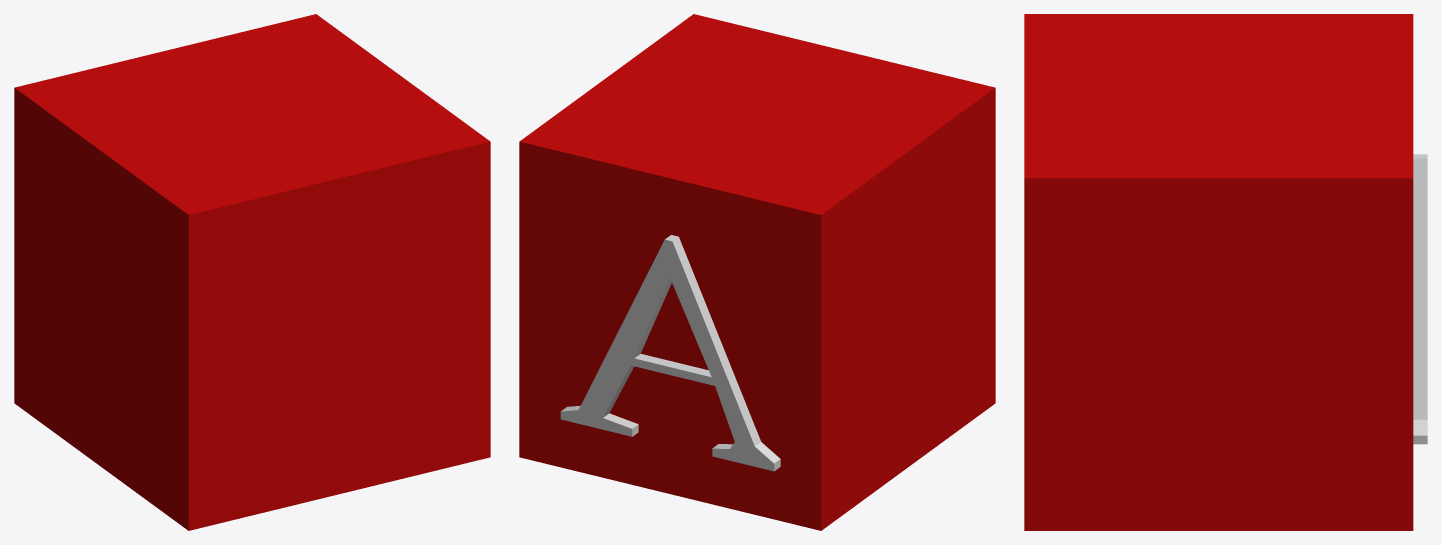
The model's file is Ablock.fbx.
3 views of the same model, side by side, from view 1: azimuth 30°, elevation 25°; view 2: azimuth 150°, elevation 25°; view 3: azimuth 270°, elevation 25° (orthographic). The views are drawn at different scales.
Parts seen in each view (by area): view 1: pCube1; view 2: pCube1, Trim_Char_A_1_1; view 3: pCube1, Trim_Char_A_1_1.
Part boxes in pixels (x1,y1,x2,y2): pCube1: (14, 14, 490, 530); pCube1: (519, 14, 995, 530); Trim_Char_A_1_1: (560, 235, 780, 471); pCube1: (1024, 14, 1413, 530); Trim_Char_A_1_1: (1413, 154, 1427, 444).
Size of the model in its own units: 4 by 4 by 4.15.
